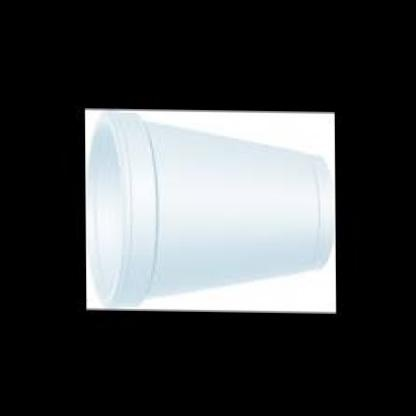trash: (85, 110, 335, 312)
